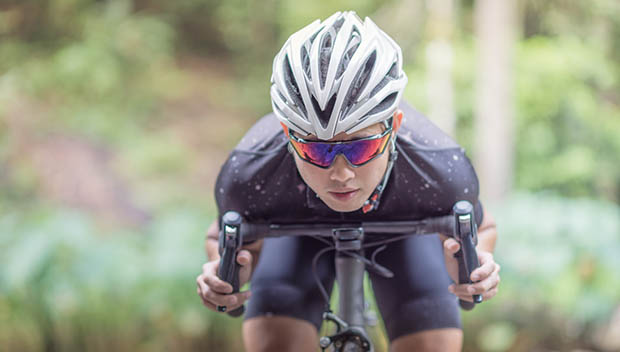helmet: (269, 9, 408, 212)
